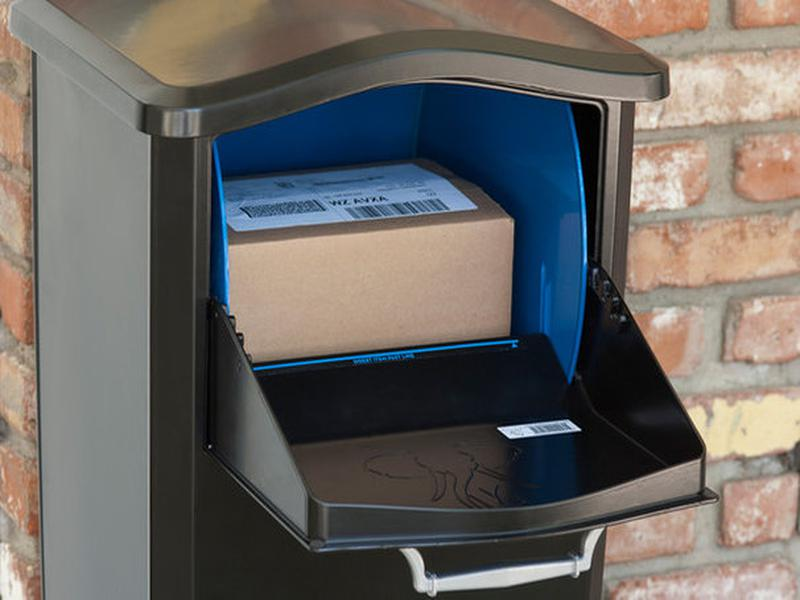package: (215, 145, 526, 368)
